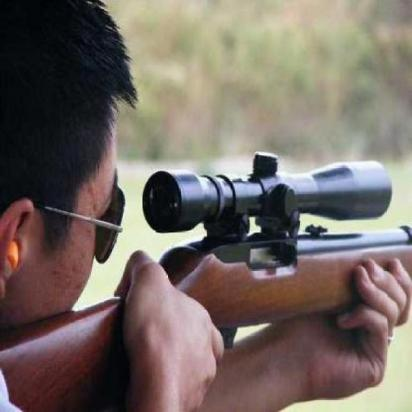Gun: (0, 122, 406, 411)
